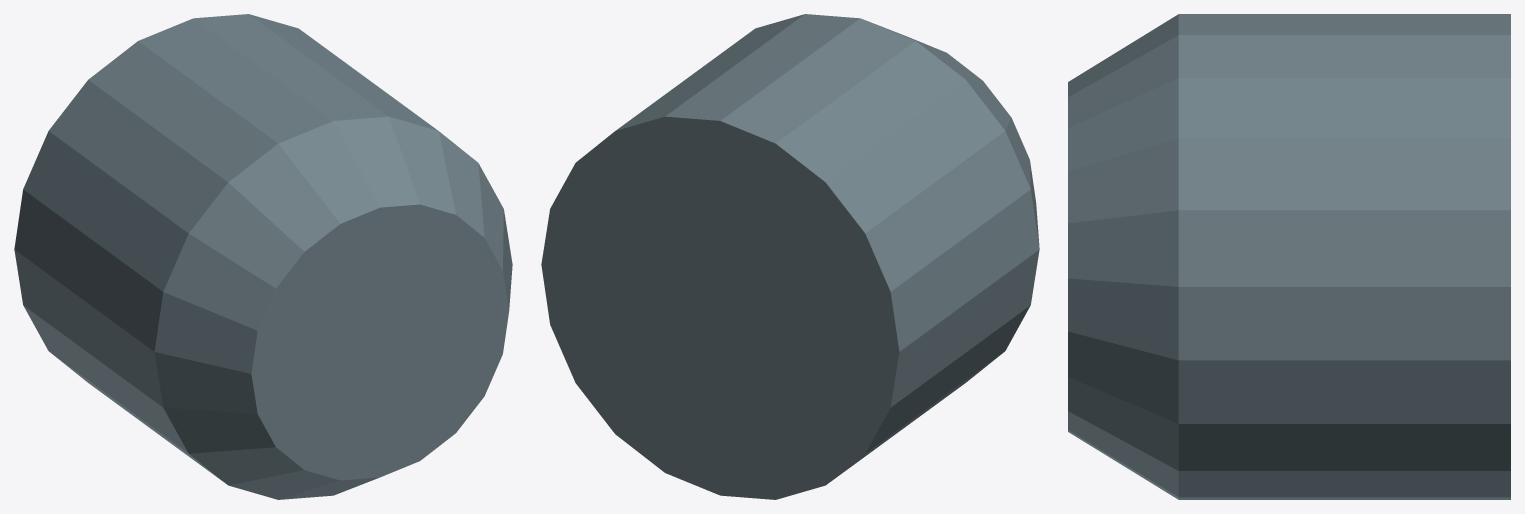
The picture shows the model from 3 angles, left to right: view 1: azimuth 30°, elevation 25°; view 2: azimuth 150°, elevation 25°; view 3: azimuth 270°, elevation 25°; orthographic projection. The views are drawn at different scales.
Visible parts, largest first — view 1: Equipment; view 2: Equipment; view 3: Equipment.
Boxes of the visible parts, x1,y1,x2,y2 form: Equipment: (14, 14, 512, 499); Equipment: (541, 14, 1039, 499); Equipment: (1068, 14, 1510, 499).
Bounding box in the file's own units: 0.48 × 0.48 × 0.434.
